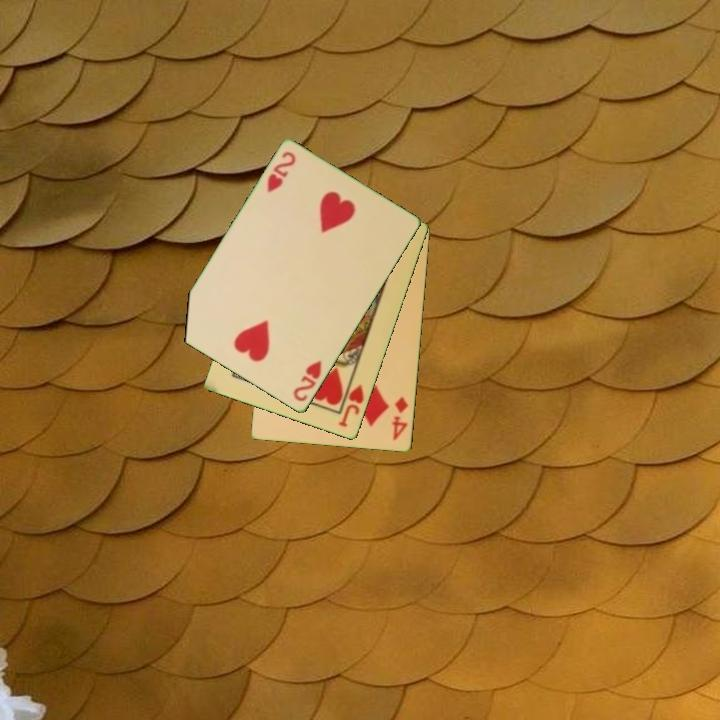2h: (290, 357, 325, 405), (264, 148, 299, 196)
4d: (388, 393, 411, 444)
Jh: (335, 381, 367, 430)
